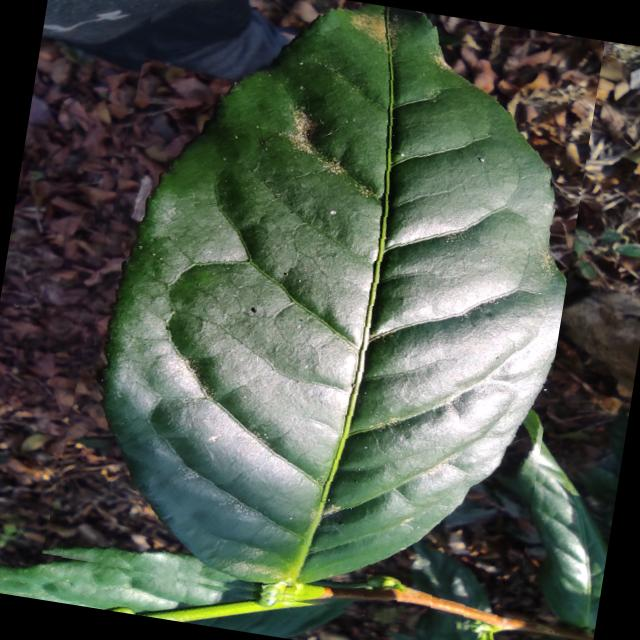Category D(7+ days, Not for Tea): (39, 0, 604, 640)
